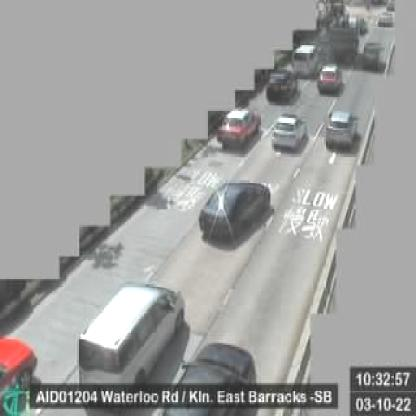Car: (80, 279, 184, 395), (157, 342, 255, 412), (199, 178, 269, 229), (217, 106, 260, 144), (270, 112, 307, 146), (324, 109, 358, 144), (266, 70, 296, 102), (316, 62, 340, 94), (293, 43, 317, 74)
